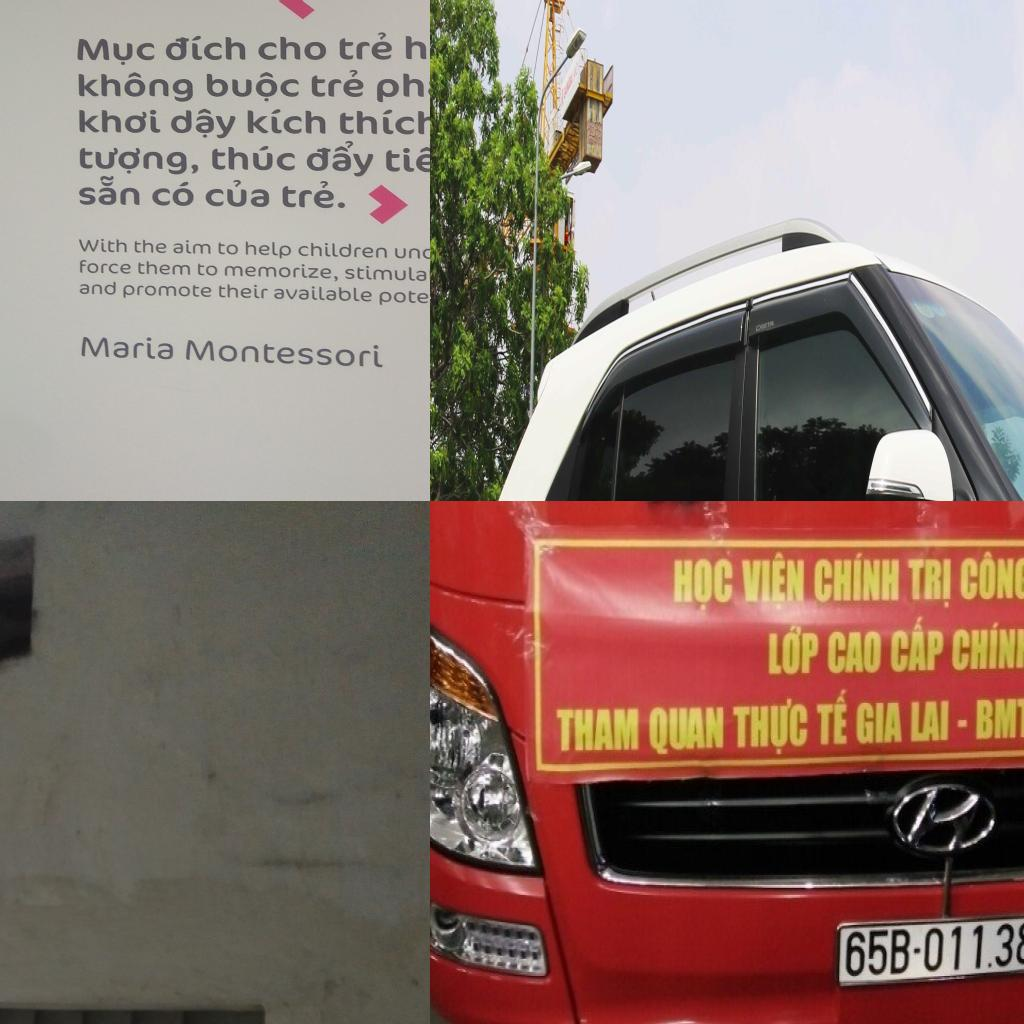text: (730, 694, 812, 760), (813, 547, 903, 606), (550, 704, 643, 760), (76, 143, 203, 179), (645, 700, 728, 754), (950, 614, 1024, 674), (666, 555, 738, 616), (739, 548, 809, 610), (70, 71, 196, 104), (957, 546, 1024, 606), (843, 925, 914, 979), (889, 615, 946, 679), (75, 331, 177, 366), (200, 70, 302, 102), (333, 106, 430, 139), (765, 624, 822, 680), (300, 140, 381, 178), (826, 625, 883, 677), (205, 142, 300, 173), (161, 32, 249, 65), (76, 105, 164, 138), (220, 260, 341, 284), (273, 178, 353, 214), (242, 106, 329, 139), (74, 36, 159, 69), (166, 104, 237, 142), (906, 555, 954, 611), (855, 694, 905, 746), (814, 682, 853, 748), (973, 694, 1024, 744), (906, 694, 954, 746), (201, 178, 272, 212), (307, 65, 369, 103), (75, 176, 144, 210), (255, 34, 329, 64), (332, 30, 397, 64), (372, 67, 430, 105), (295, 240, 390, 262), (271, 286, 375, 306), (342, 263, 430, 286), (382, 137, 430, 174), (120, 282, 214, 300), (146, 178, 200, 209), (396, 24, 430, 63), (375, 287, 430, 310), (74, 258, 132, 278), (242, 238, 294, 259), (76, 235, 130, 255), (134, 259, 192, 277), (213, 283, 271, 301), (392, 244, 430, 264), (171, 238, 213, 256), (76, 280, 118, 298), (131, 238, 170, 256), (193, 260, 220, 278), (214, 240, 240, 258)
